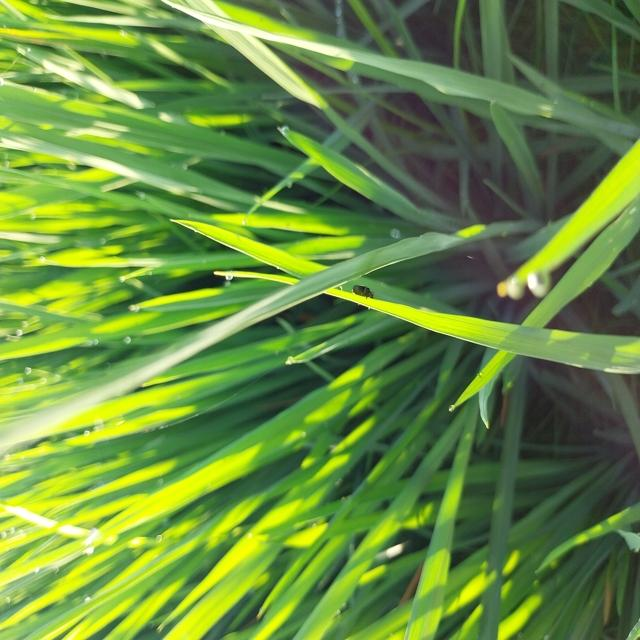healthy: (342, 280, 388, 316)
